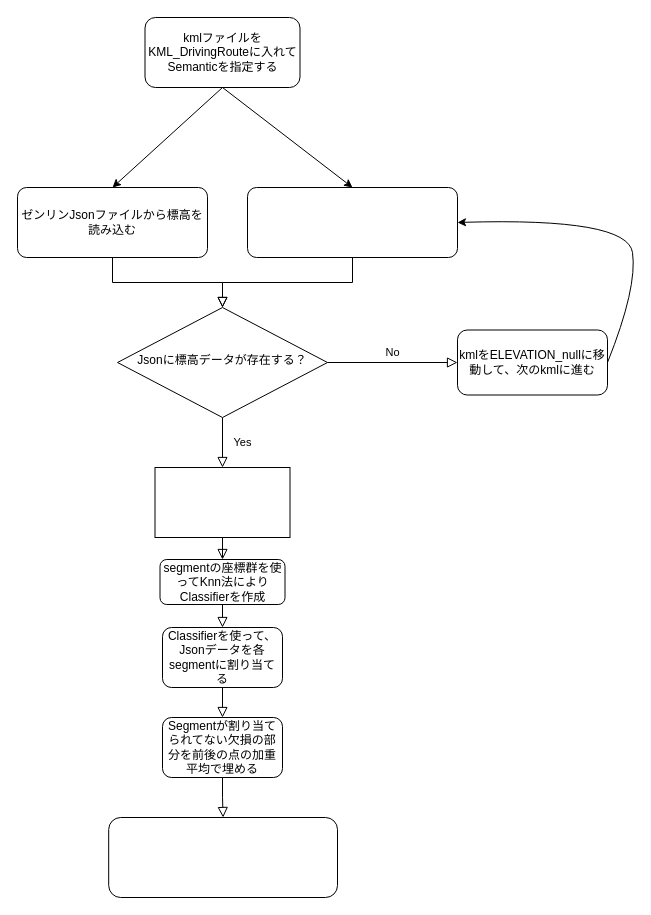
Image size: 651x915. Some labels were removed from this diagram. The centre of each missing label's shape, as x and y in pixels:
"kmlファイルからSemantic情報を読み込む" belongs at (x=352, y=222).
"指定された間隔ごとにSegmentデータをSQLサーバーに挿入、 同時にSegmentとSemanticの参照関係もSQLサーバーに挿入" belongs at (x=223, y=857).
"指定された間隔でkmlの座標群により,segmentを生成する" belongs at (x=222, y=502).
